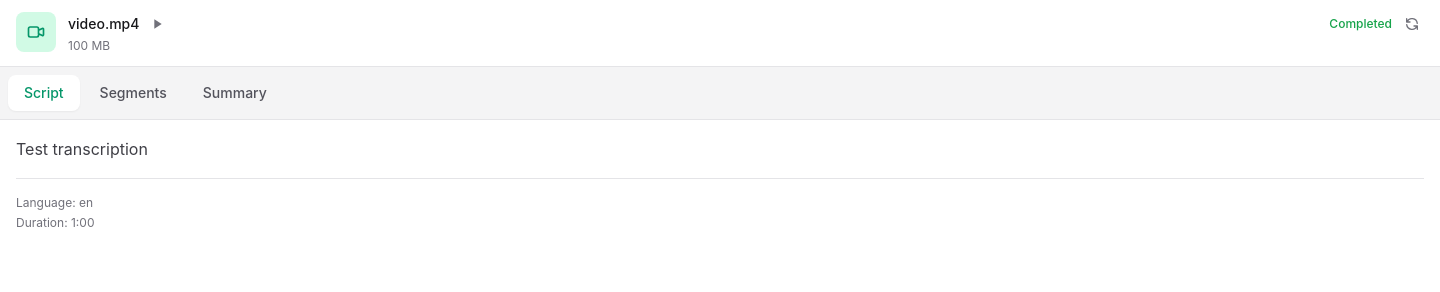
Test: Inspector › Summary tab › displays Claude model metadata correctly
Note: Click on Summary tab
Click the tab "Summary" at (235, 93), box [187,75,283,111]
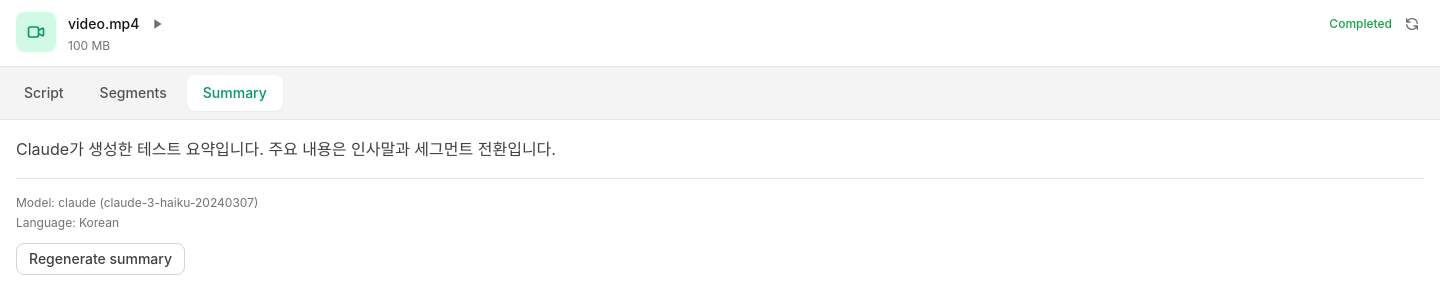
Expected: the text "Model: claude (claude-3-haiku-20240307)" is shown, [16,195,258,210]
Expected: the text "Claude가 생성한 테스트 요약입니다. 주요 내용은 인사말과 세그먼트 전환입니다." is shown, [16,139,556,159]
